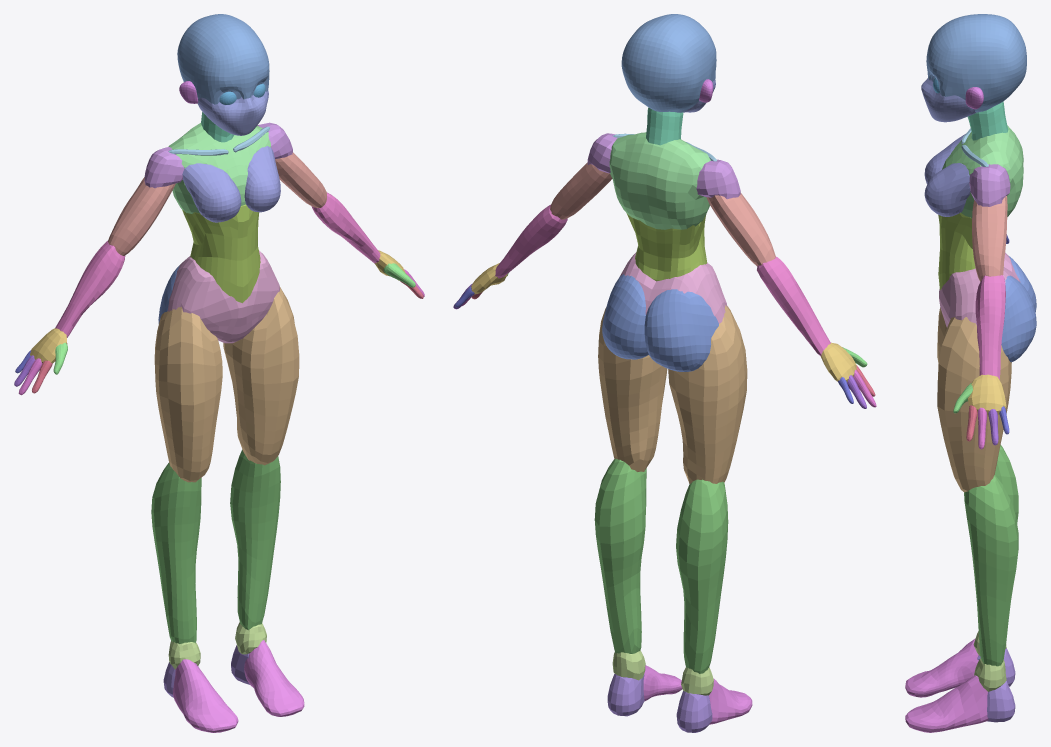
The model's file is toon_female_base_mesh.glb.
The picture shows the model from 3 angles, left to right: view 1: azimuth 30°, elevation 25°; view 2: azimuth 150°, elevation 25°; view 3: azimuth 270°, elevation 25°; orthographic projection. The views are drawn at different scales.
Parts seen in each view (by area): view 1: thigh_7, shin_11, head_0, foot_14, hips_6, abs_5, breasts_16, forearm_10, arm_9, chest_4, shoulder_8, jaw_3 (+4 smaller); view 2: shin_11, thigh_7, glutes_26, chest_4, head_0, forearm_10, arm_9, abs_5, heel_13, hips_6, foot_14, shoulder_8 (+3 smaller); view 3: shin_11, head_0, thigh_7, foot_14, chest_4, forearm_10, glutes_26, arm_9, breasts_16, abs_5, hips_6, shoulder_8 (+11 smaller).
Boxes of the visible parts, box(x1,y1,x2,y2) form: thigh_7: box(154, 287, 299, 482); shin_11: box(151, 449, 280, 643); head_0: box(177, 14, 269, 104); foot_14: box(173, 640, 304, 732); hips_6: box(167, 250, 279, 343); abs_5: box(182, 204, 260, 303); breasts_16: box(182, 146, 280, 222); forearm_10: box(55, 192, 380, 337); arm_9: box(108, 152, 326, 255); chest_4: box(168, 123, 270, 213); shoulder_8: box(144, 122, 292, 188); jaw_3: box(197, 90, 268, 135); shin_11: box(594, 458, 728, 673); thigh_7: box(598, 305, 747, 483); glutes_26: box(602, 274, 718, 371); chest_4: box(609, 132, 710, 229); head_0: box(621, 14, 716, 112); forearm_10: box(495, 204, 830, 355); arm_9: box(550, 162, 775, 266); abs_5: box(626, 213, 707, 281); heel_13: box(607, 674, 712, 732); hips_6: box(620, 252, 727, 323); foot_14: box(643, 665, 752, 724); shoulder_8: box(587, 133, 740, 199); shin_11: box(964, 445, 1018, 666); head_0: box(926, 14, 1026, 112); thigh_7: box(937, 307, 1011, 492); foot_14: box(905, 638, 988, 732); chest_4: box(942, 125, 1023, 218); forearm_10: box(975, 275, 1005, 379); glutes_26: box(1001, 256, 1036, 362); arm_9: box(972, 196, 1007, 281); breasts_16: box(924, 134, 970, 216); abs_5: box(938, 213, 975, 289); hips_6: box(939, 252, 1020, 327); shoulder_8: box(969, 164, 1010, 206).
Bounding box in the file's own units: 6.95 × 11.15 × 1.92.
